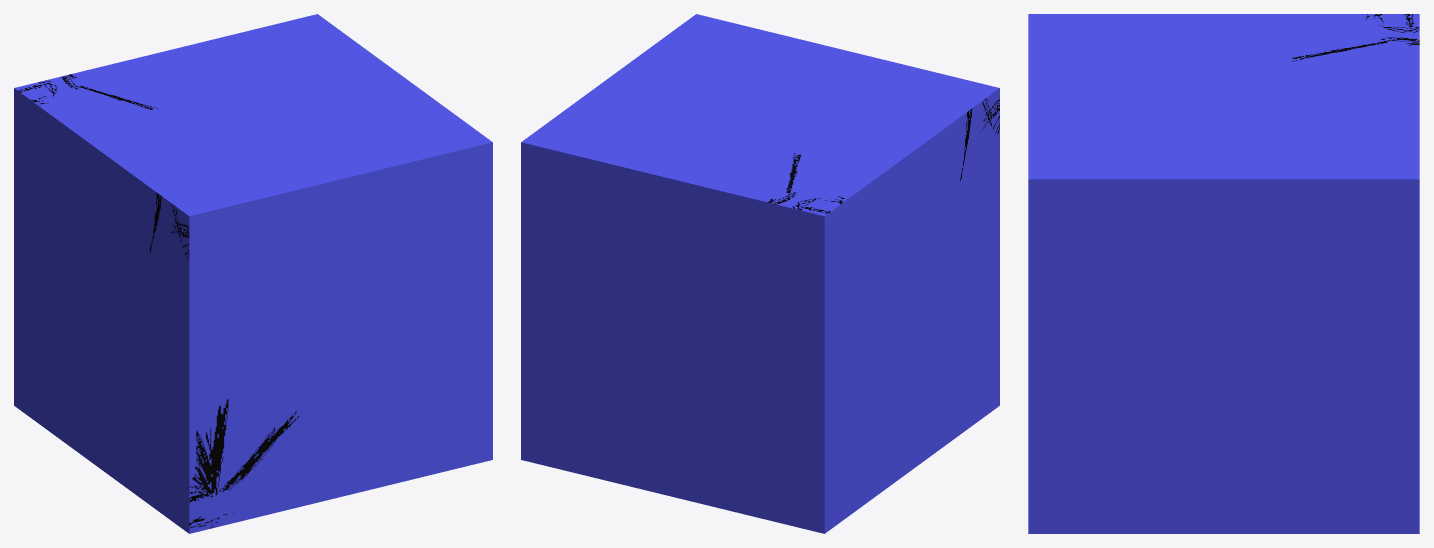
Rendered from CubeSoldier_cut_right.fbx.
The picture shows the model from 3 angles, left to right: view 1: azimuth 30°, elevation 25°; view 2: azimuth 150°, elevation 25°; view 3: azimuth 270°, elevation 25°; orthographic projection. The views are drawn at different scales.
Parts seen in each view (by area): view 1: Cube.001, Cube; view 2: Cube.001, Cube; view 3: Cube, Cube.001.
Part boxes in pixels (x1=…): Cube.001: x1=14, y1=70, x2=416, y2=533; Cube: x1=86, y1=14, x2=492, y2=478; Cube.001: x1=610, y1=67, x2=999, y2=533; Cube: x1=521, y1=14, x2=915, y2=481; Cube: x1=1028, y1=53, x2=1419, y2=533; Cube.001: x1=1028, y1=14, x2=1419, y2=59.
Size of the model in its own units: 200 by 200 by 200.
